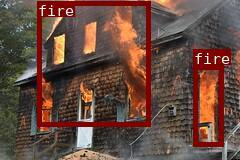fire: (36, 1, 150, 125), (192, 64, 223, 146)
